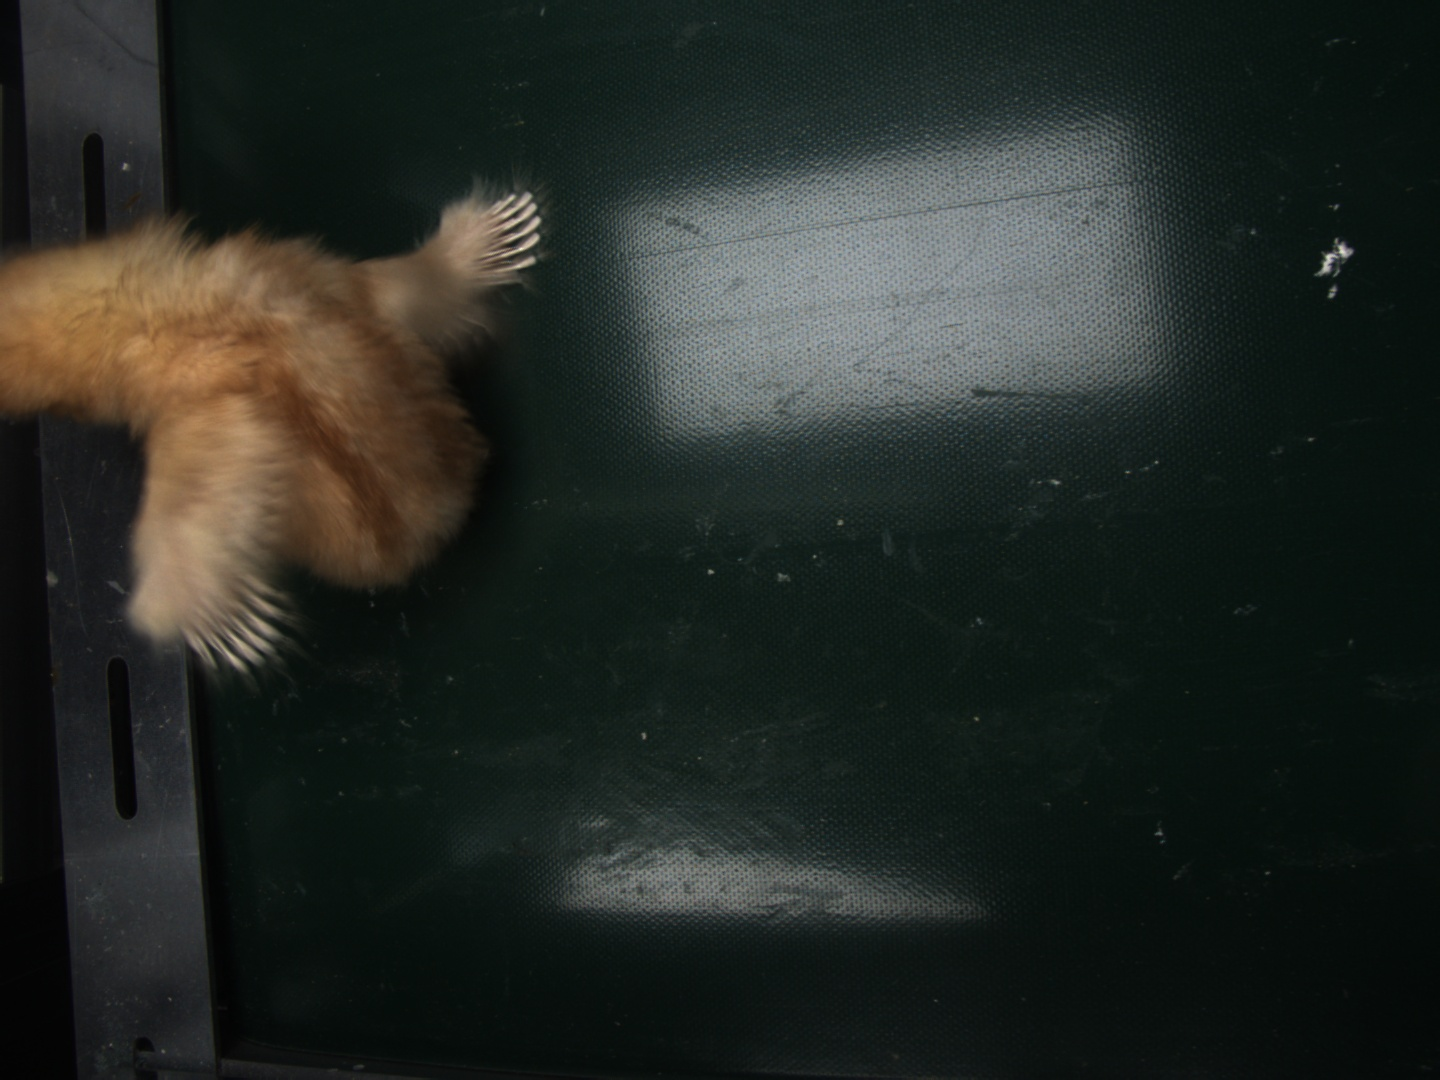female: (467, 193, 543, 281)
